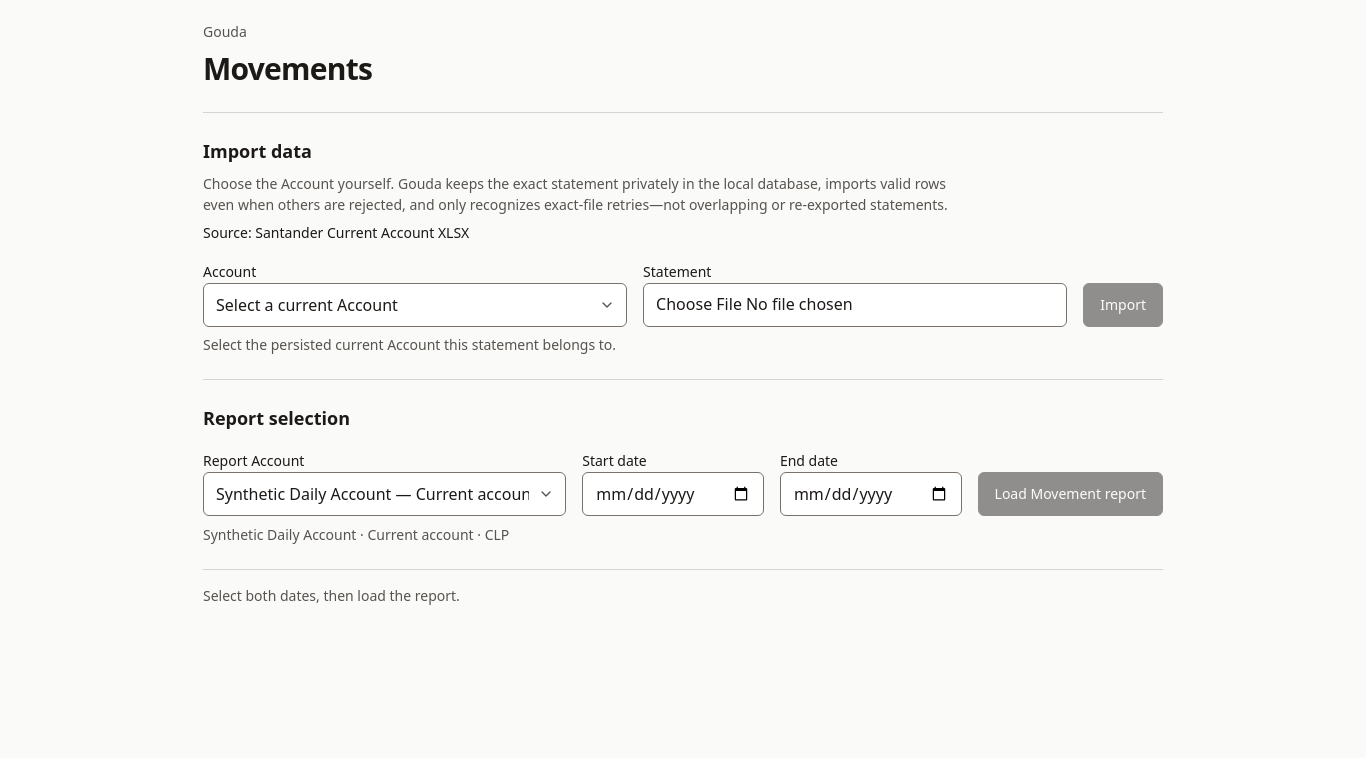
Test: Gouda read-only report flow › renders active, inactive, never-assigned, and cleared classifications read-only
Check: the dropdown labelled "Report Account" is shown, box [203,472,566,516]
Type "2026-04-01" into the date field labelled "Start date".
click(673, 494); type("2026-04-01")  # box [582,472,764,516]
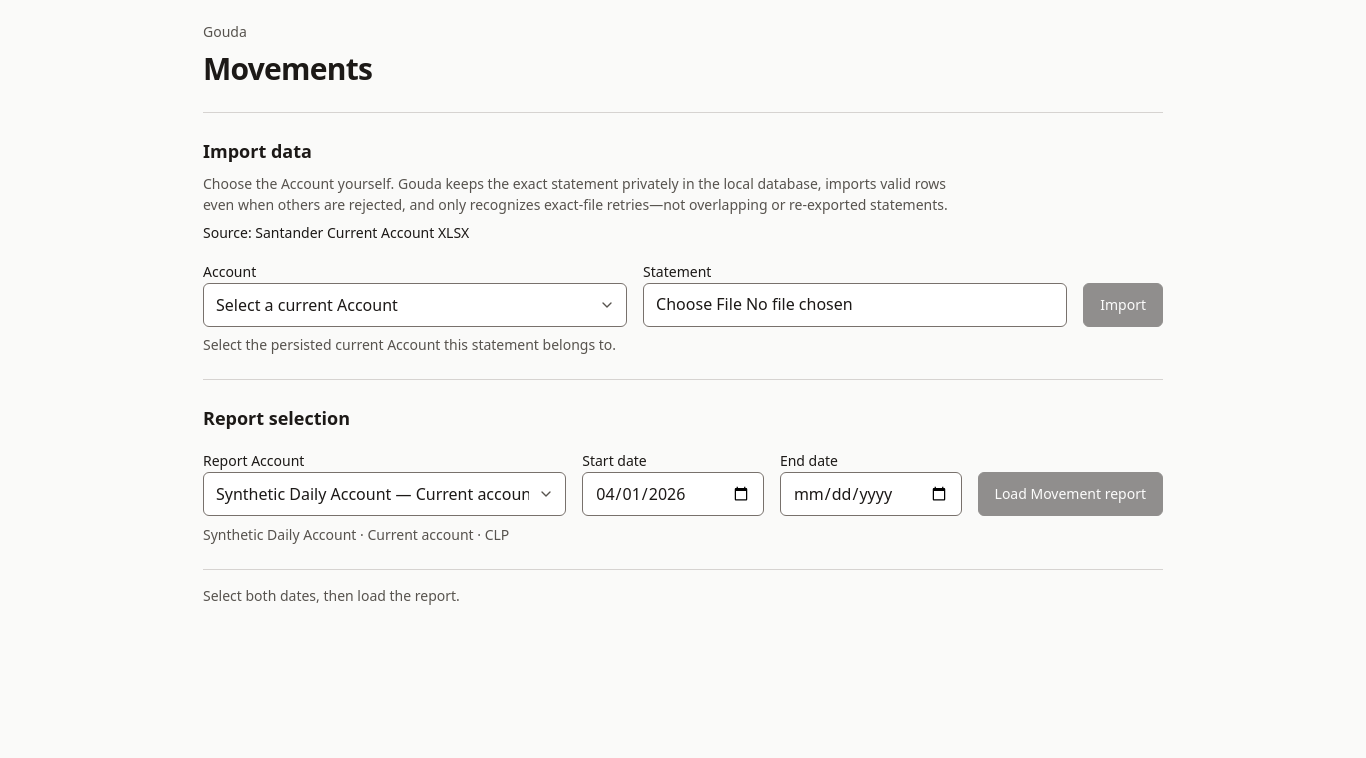
Type "2026-04-30" into the date field labelled "End date".
click(871, 494); type("2026-04-30")  # box [780,472,962,516]
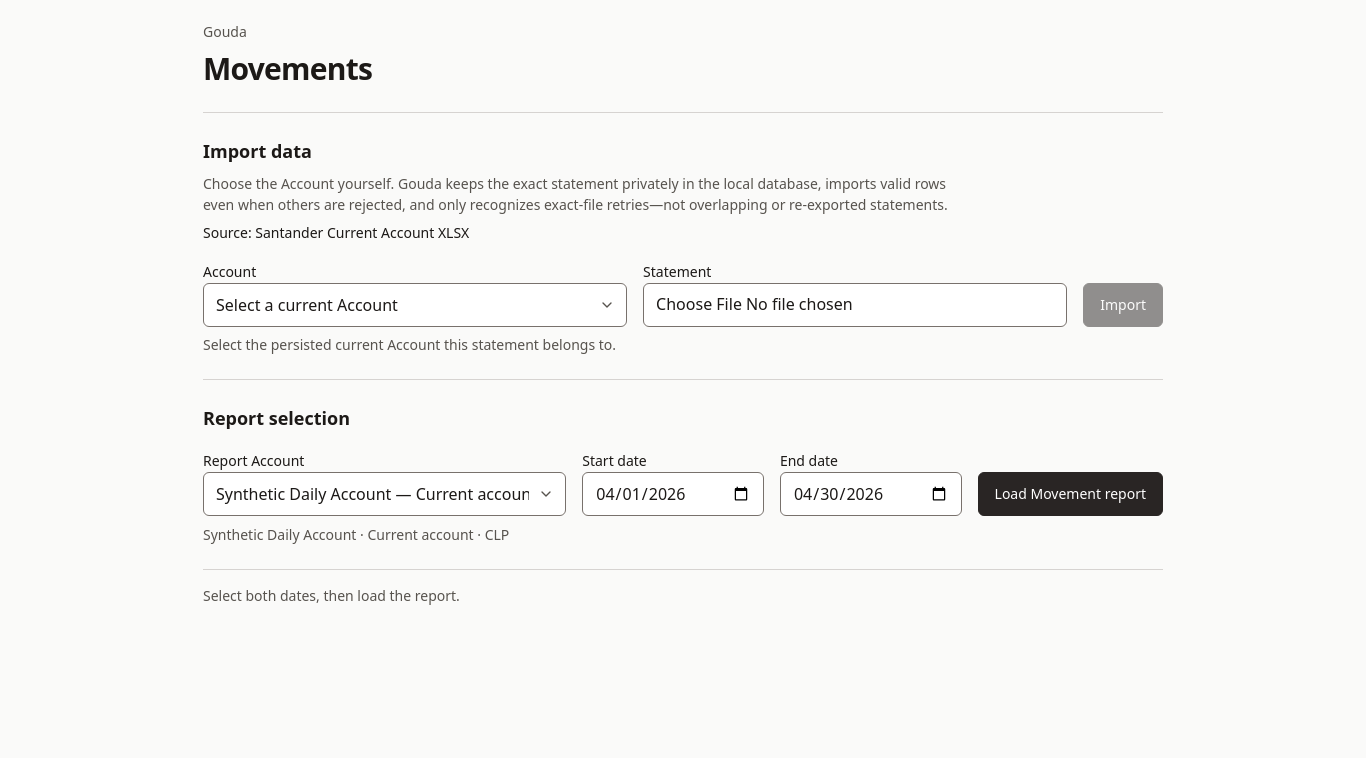
Click the button "Load Movement report".
click(1070, 494)  # box [978,472,1163,516]
(page scrolled)
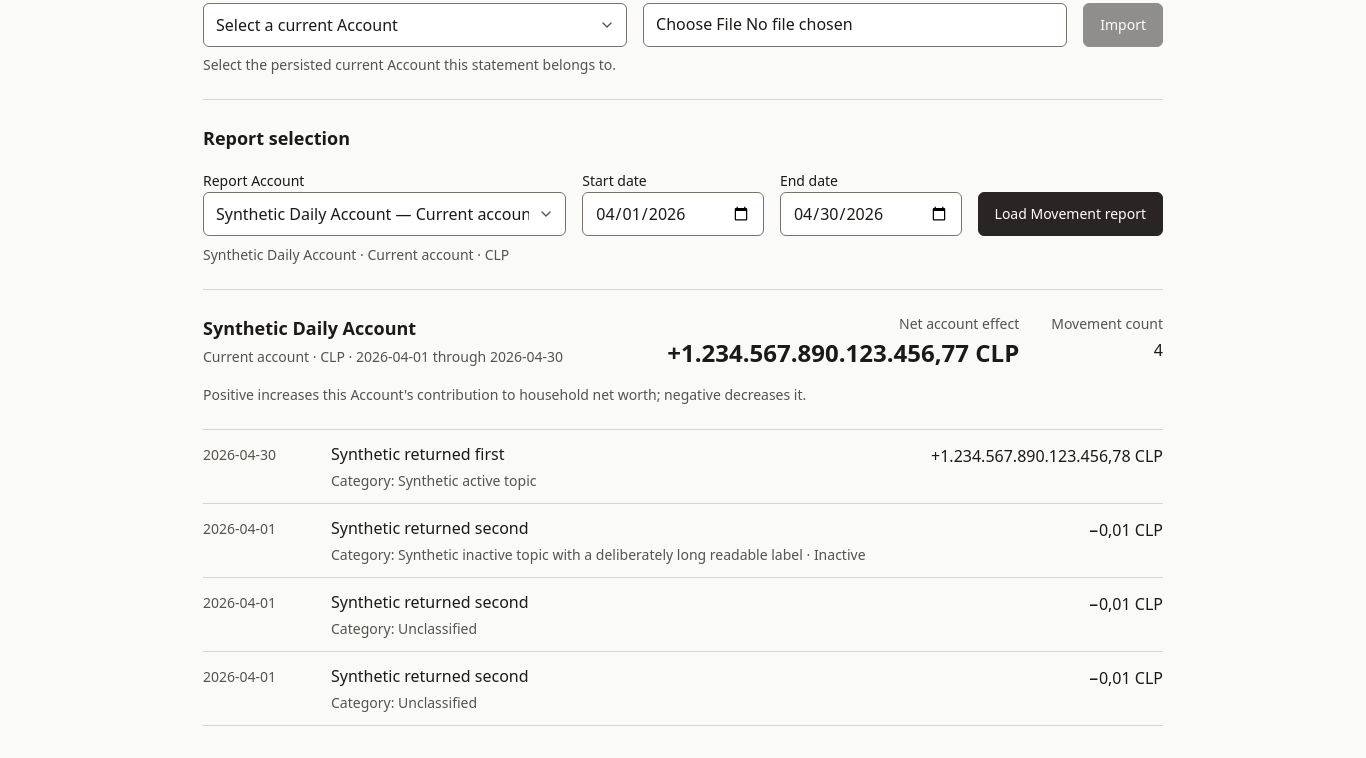
Check: the text "Category: Synthetic active topic" is shown, box [331,470,536,490]
Check: the text "Category: Synthetic inactive topic with a deliberately long readable label · Inactive" is shown, box [331,544,866,564]
Check: the text "Category: Unclassified" is shown 2 times, box [331,618,477,638]; [331,692,477,712]
